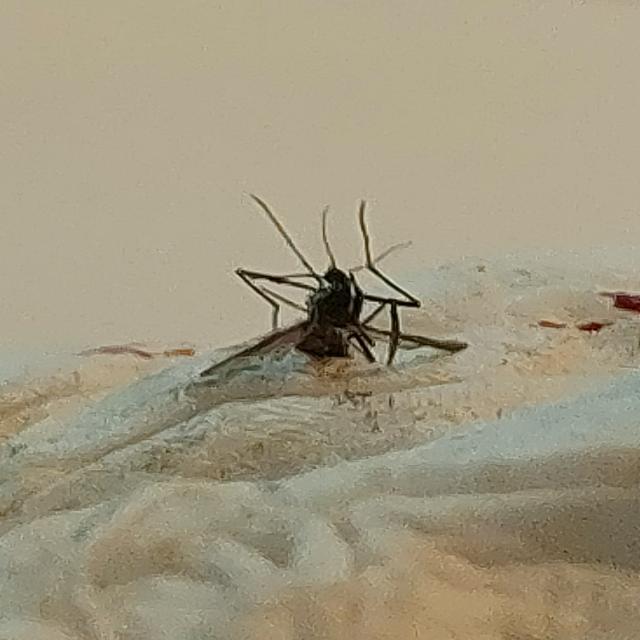albopictus: (220, 190, 462, 372)
